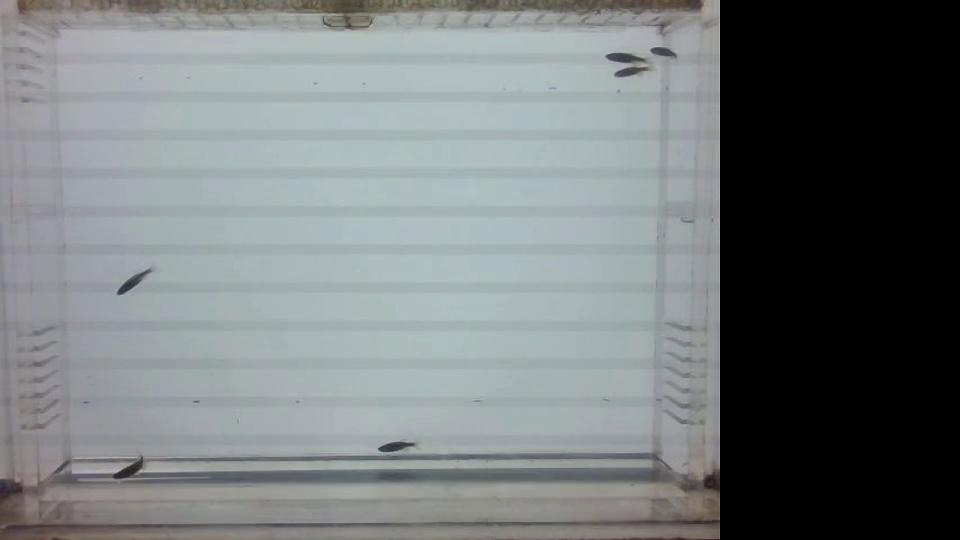fish: (116, 257, 156, 300), (112, 444, 149, 484), (369, 436, 428, 456), (644, 41, 681, 64), (597, 52, 645, 66), (609, 64, 648, 80)
